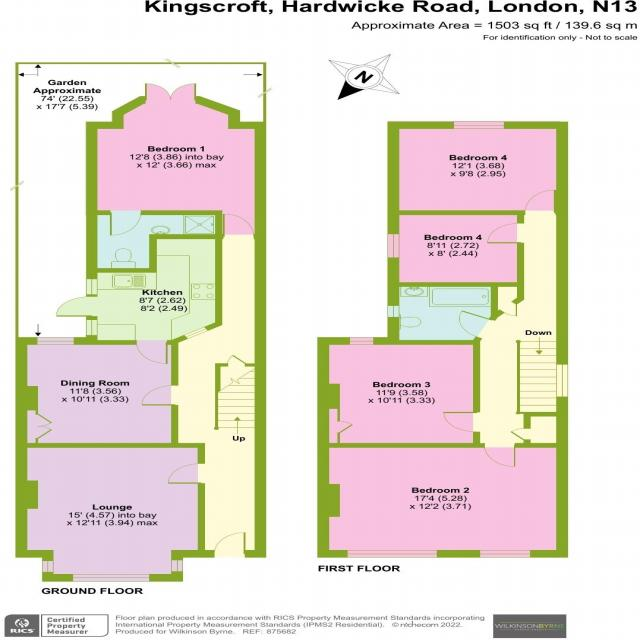DOOR: (458, 309, 496, 340), (55, 295, 98, 318), (220, 213, 257, 239), (482, 442, 517, 468), (212, 532, 247, 558), (442, 411, 481, 433), (524, 189, 557, 215), (109, 210, 142, 236), (135, 340, 169, 365), (486, 223, 526, 244), (141, 385, 179, 406)
DOUBLE DOOR: (144, 81, 197, 103)
ROOM: (316, 442, 569, 558), (85, 82, 267, 239), (56, 234, 223, 345), (15, 337, 179, 448), (317, 337, 480, 448), (387, 121, 568, 215), (387, 210, 524, 287)
WINDOW: (345, 548, 439, 559), (478, 549, 532, 559), (453, 121, 504, 129), (183, 326, 209, 340), (387, 233, 400, 258), (36, 337, 75, 345), (86, 319, 98, 336), (349, 337, 374, 345), (86, 279, 98, 295), (387, 305, 400, 318)
